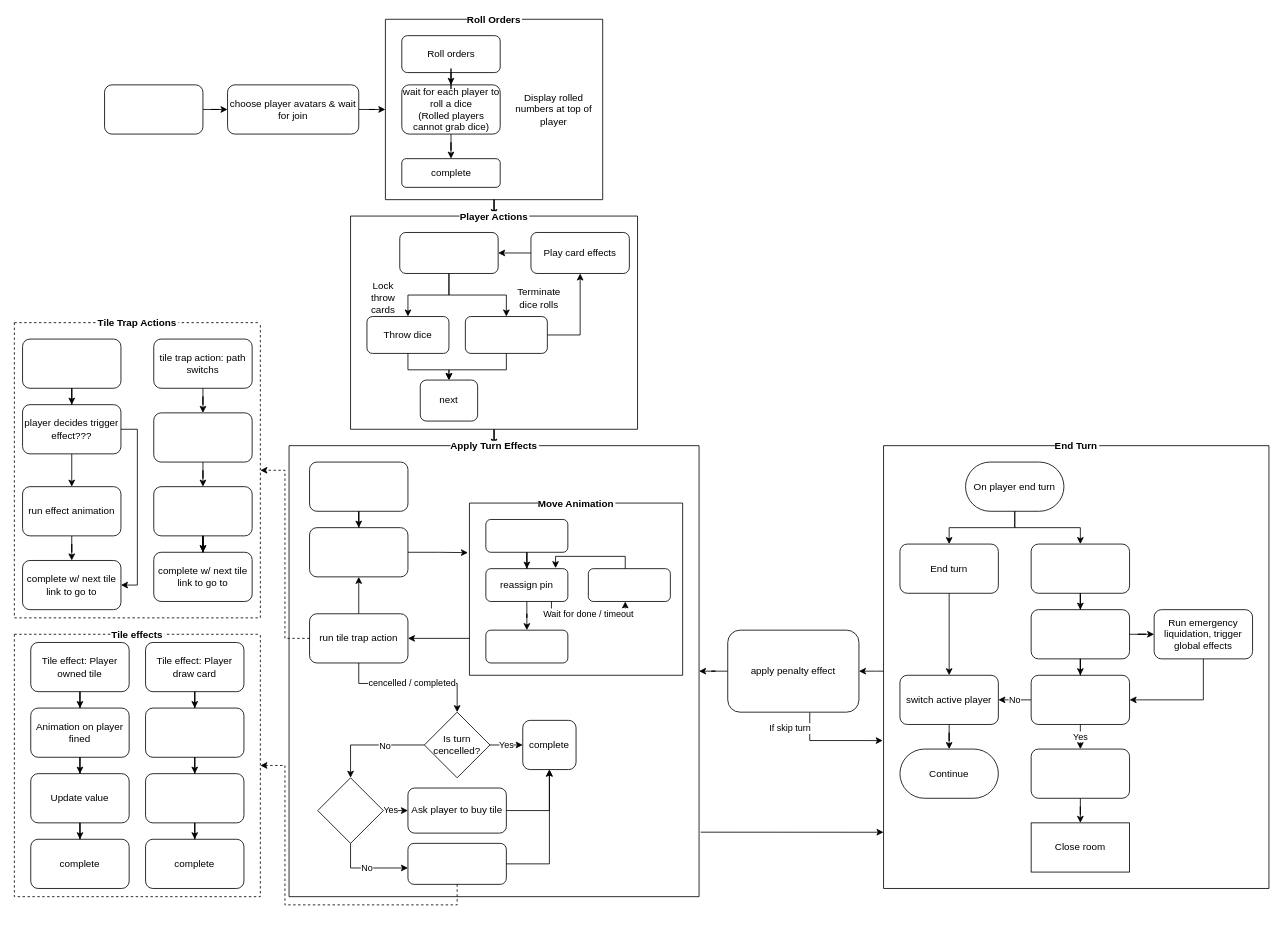
Some shapes in this 1283 by 926 pixel diagram are drawn without their labels. The centre of each missing label's shape, as x and y in pixels:
"Animation on card stacks" belongs at point (194, 732).
"check if anyone is bankrupt" belongs at point (1080, 634).
"check if game ends this round" belongs at point (1080, 699).
"Display end game" belongs at point (1080, 773).
"End round" belongs at point (1080, 568).
"Fines player / run tile effect" belongs at point (456, 863).
"move" belongs at point (358, 486).
"move complete" belongs at point (526, 646).
"move effect" belongs at point (526, 535).
"play step effect" belongs at point (629, 584).
"Room open" belongs at point (153, 109).
"scan for next tile action" belongs at point (358, 552).
"show switch" belongs at point (202, 437).
"Thrown cards" belongs at point (506, 334).
"Tile buyable?" belongs at point (350, 810).
"tile trap action: item trap" belongs at point (71, 363).
"Wait for player action" belongs at point (448, 252).
"wait for player choice" belongs at point (202, 511).
"Wait for player draw card" belongs at point (194, 798).
